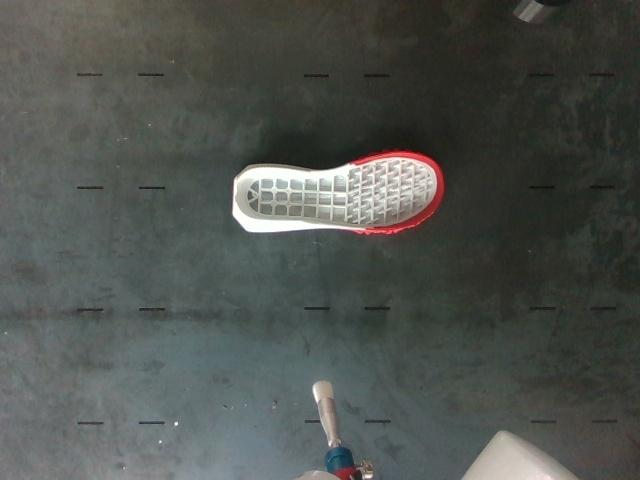shoes: (235, 154, 442, 228)
